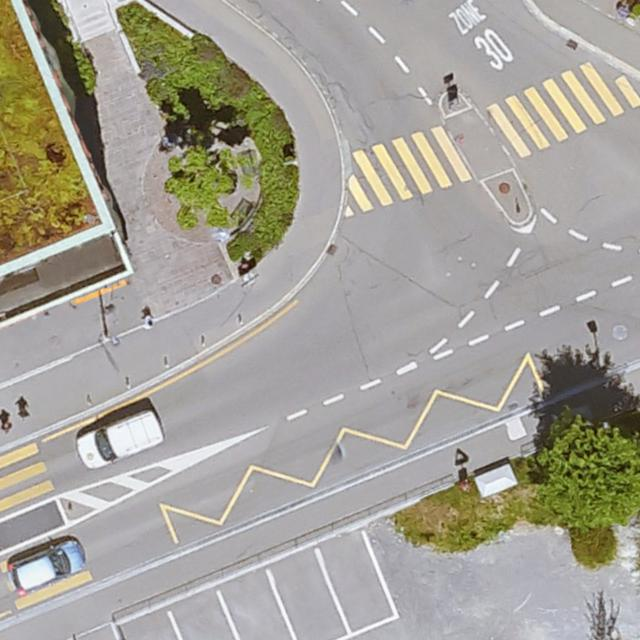tree: (530, 418, 640, 526), (163, 146, 258, 225)
